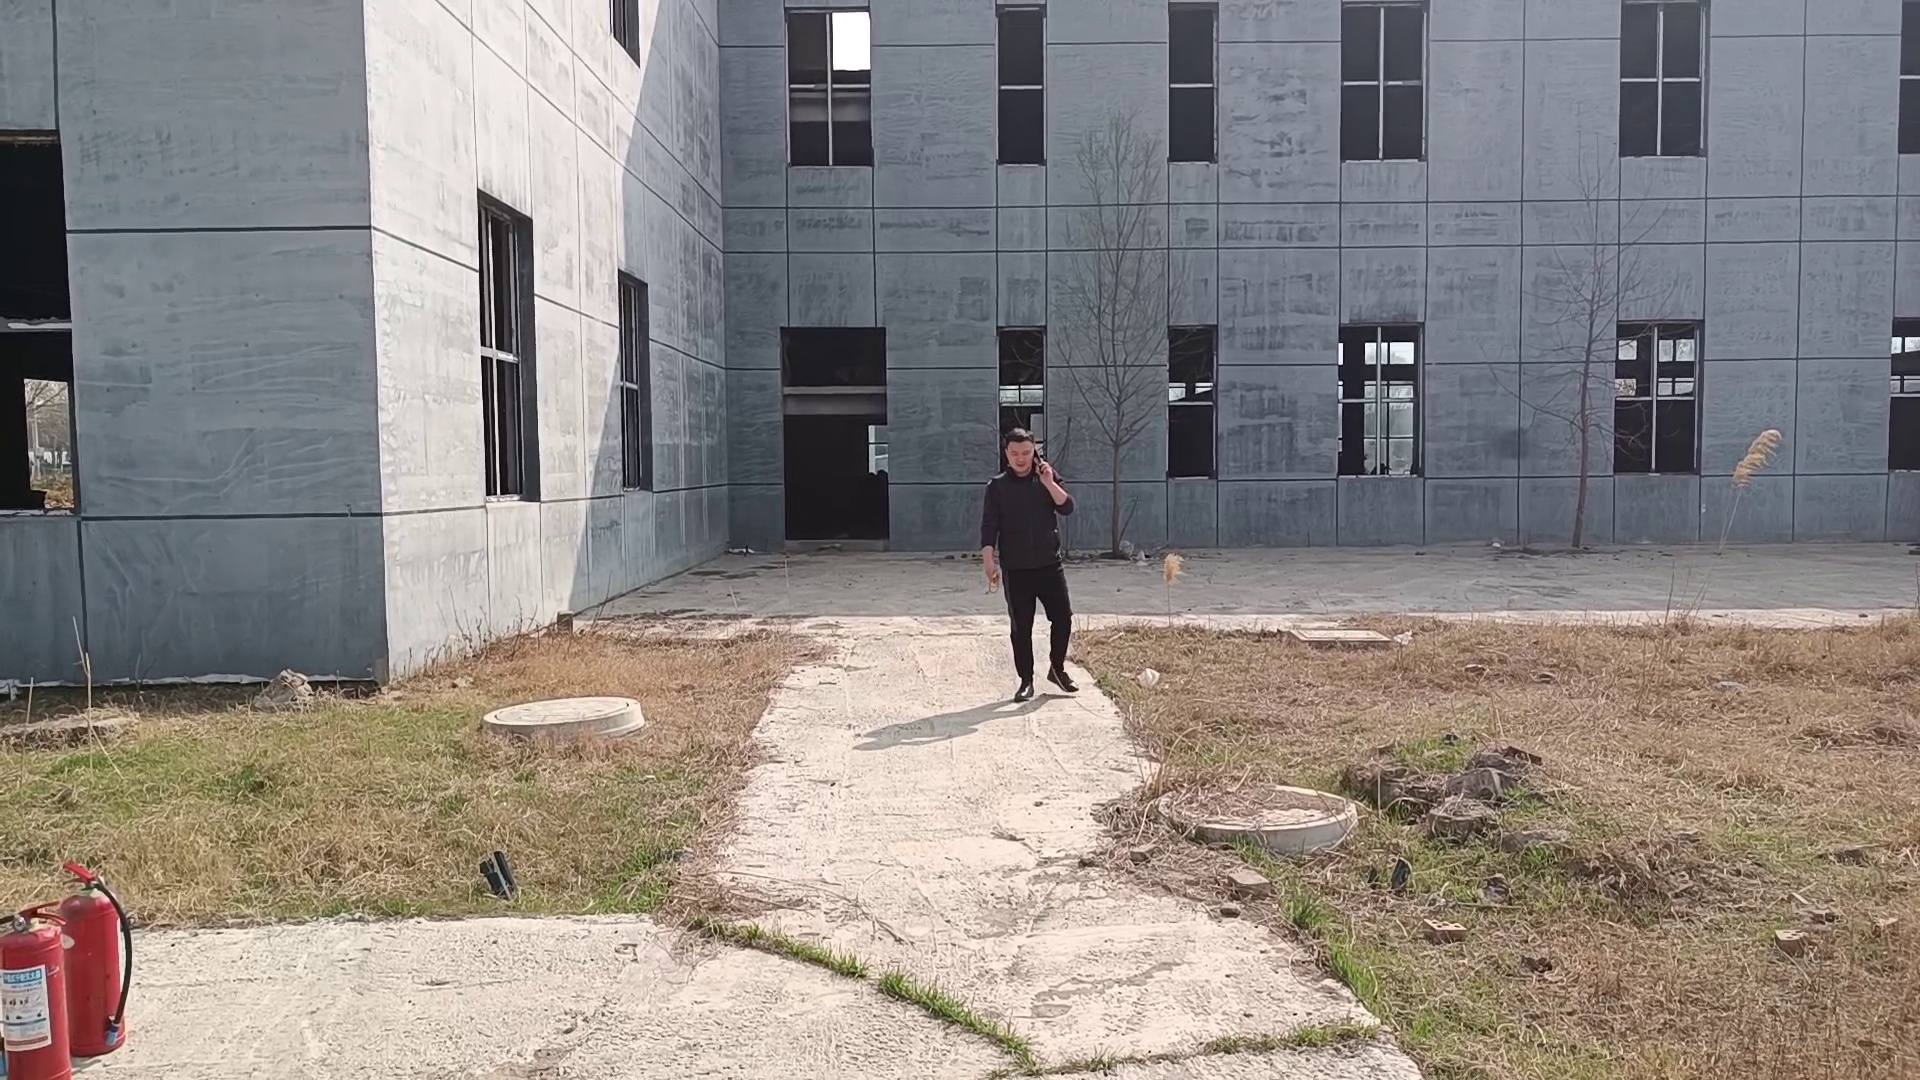phone: (1000, 423, 1052, 491)
